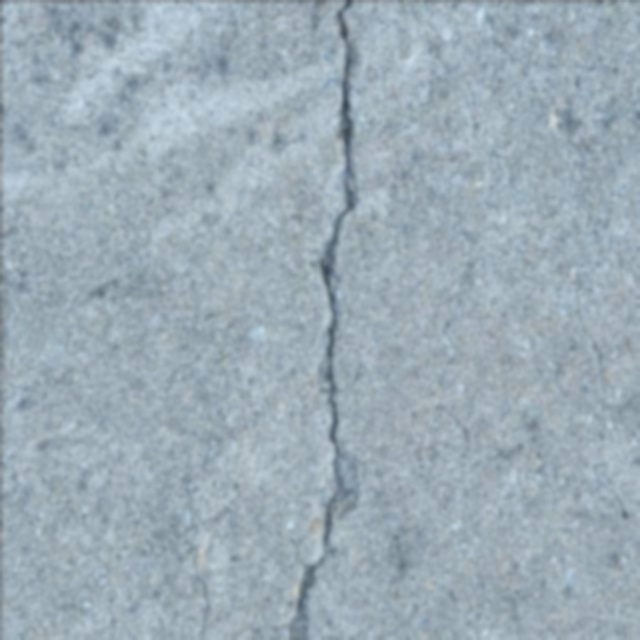SurfaceCrack: (249, 1, 412, 640)
